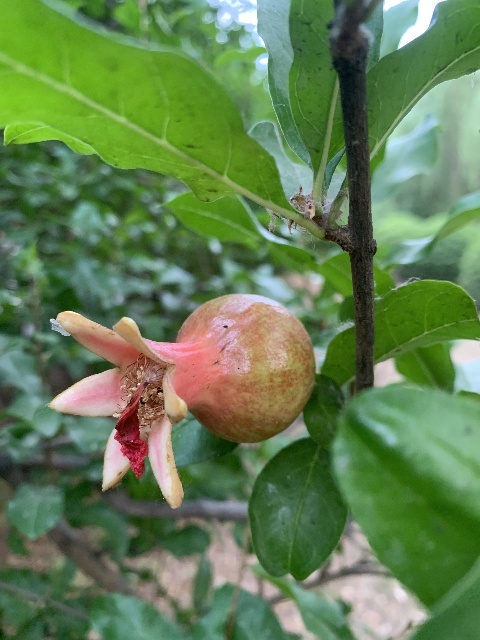early-fruit: (47, 292, 314, 509)
